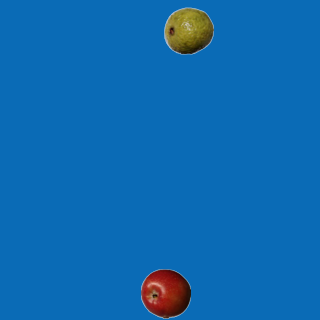Apple Braeburn: (140, 268, 190, 318)
Guava: (163, 5, 213, 55)
